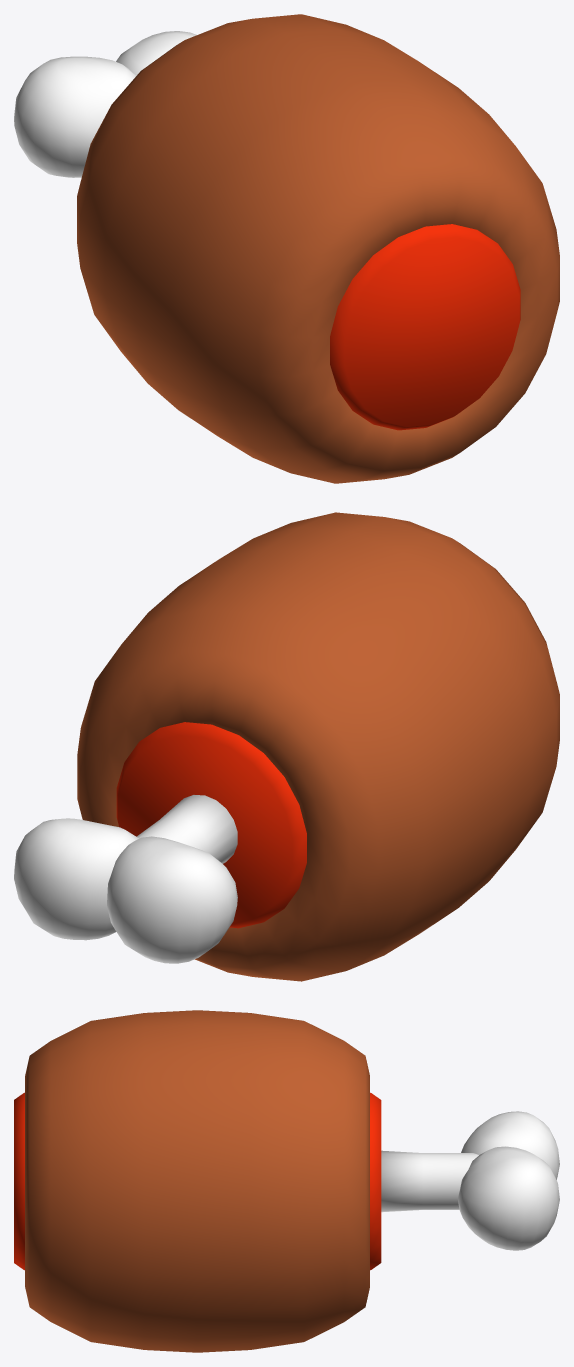
The model's file is meat.fbx.
3 renders of one model, top to bottom at view 1: azimuth 30°, elevation 25°; view 2: azimuth 150°, elevation 25°; view 3: azimuth 270°, elevation 25°, orthographic. The views are drawn at different scales.
Visible parts, largest first — view 1: meat; view 2: meat; view 3: meat.
Boxes of the visible parts, <box> form: meat: <box>14,14,559,483</box>; meat: <box>14,512,559,981</box>; meat: <box>14,1010,559,1352</box>.
Bounding box in the file's own units: 2.15 × 2.17 × 3.43.
